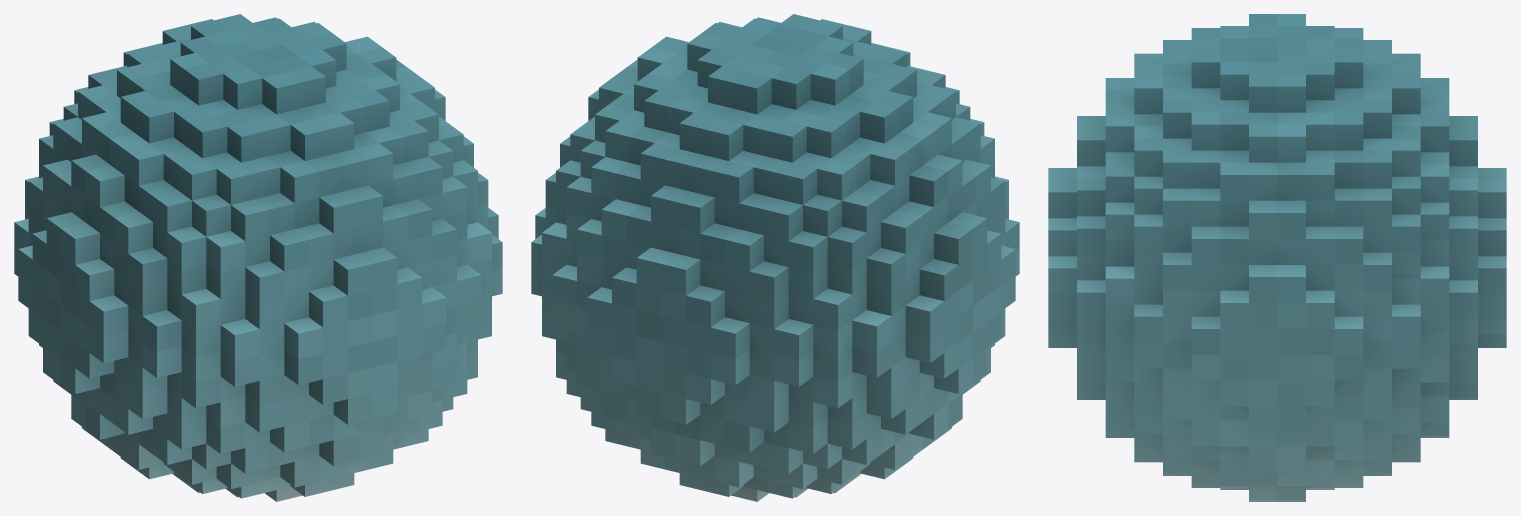
The model's file is uranus_lod2.glb.
3 views of the same model, side by side, from view 1: azimuth 30°, elevation 25°; view 2: azimuth 150°, elevation 25°; view 3: azimuth 270°, elevation 25° (orthographic).
Visible parts, largest first — view 1: uranus_lod2; view 2: uranus_lod2; view 3: uranus_lod2.
Part boxes in pixels (x1=…): uranus_lod2: x1=14, y1=14, x2=502, y2=501; uranus_lod2: x1=531, y1=14, x2=1019, y2=501; uranus_lod2: x1=1048, y1=14, x2=1506, y2=501.
Bounding box in the file's own units: 2 × 2 × 2.
